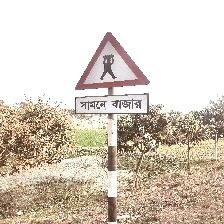Market-in-front: (74, 32, 151, 116)
